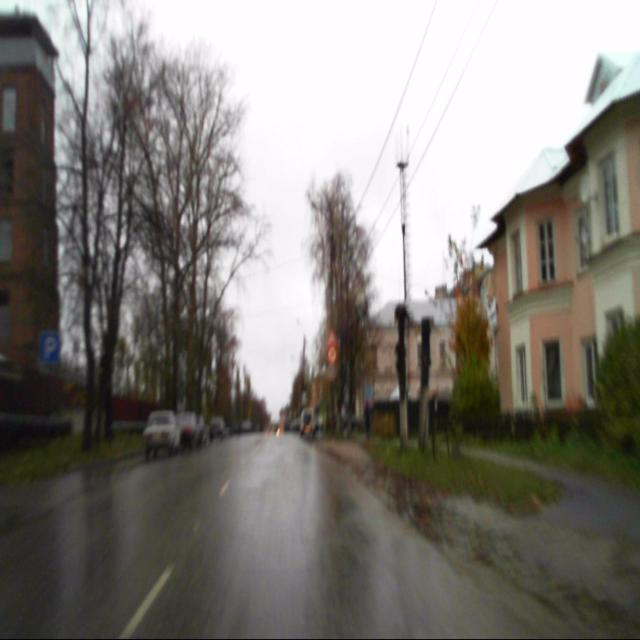road sign: (40, 332, 58, 363)
